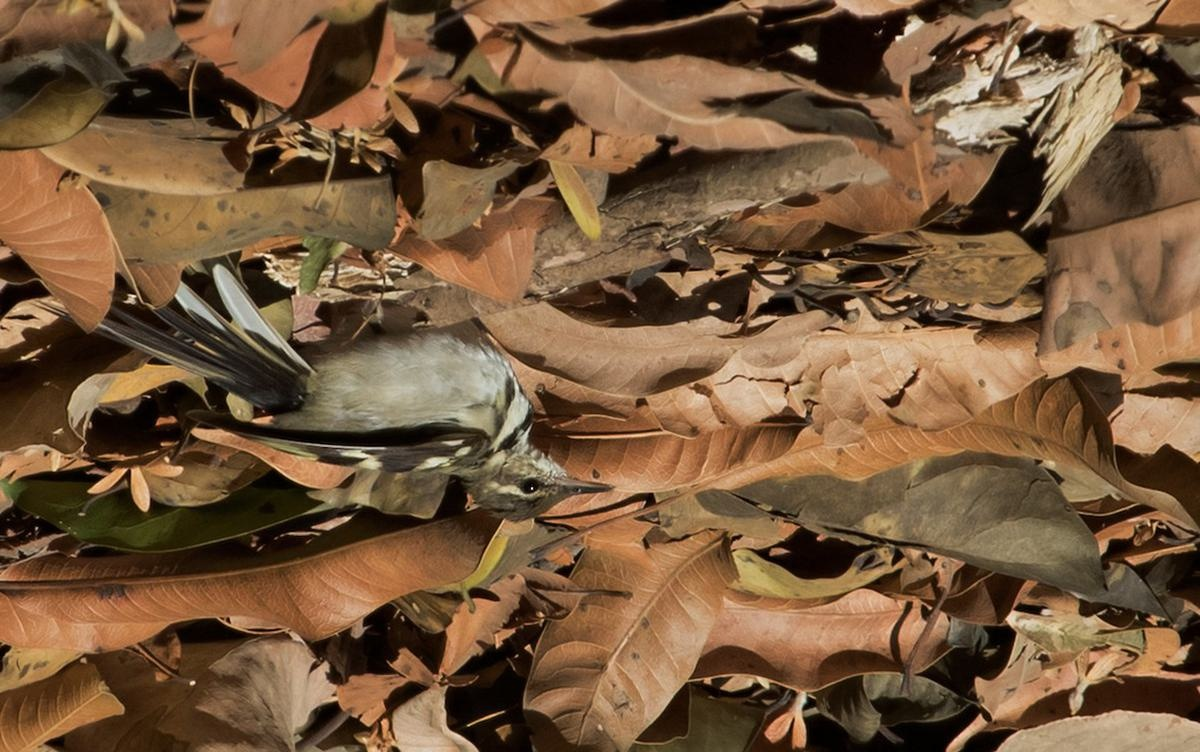wagtail: (185, 274, 639, 512)
